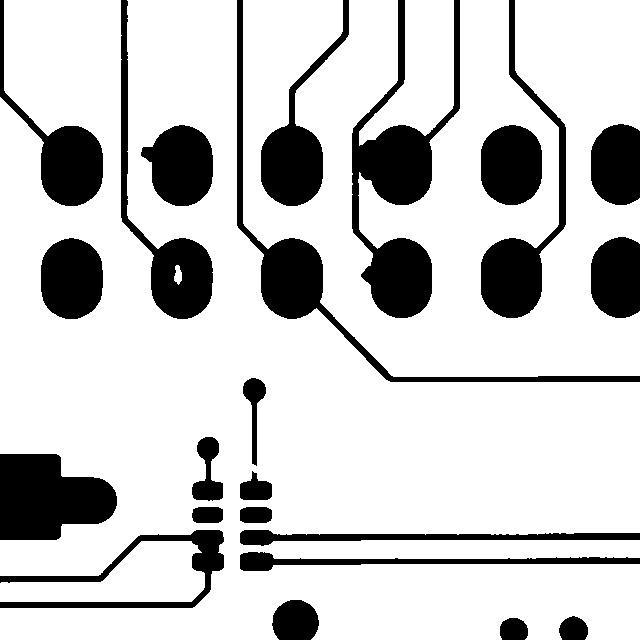open: (239, 454, 267, 482)
pin-hole: (164, 255, 191, 294)
short: (342, 130, 389, 189), (188, 530, 228, 564)
spur: (351, 256, 388, 295), (131, 137, 171, 171)
